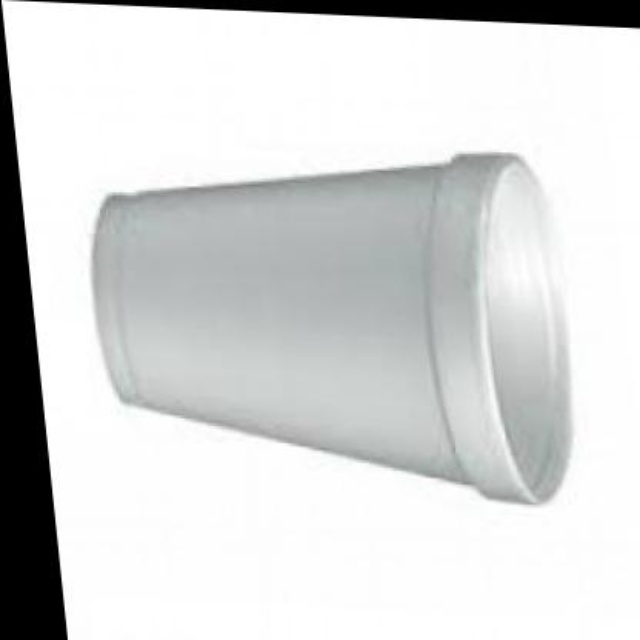trash: (94, 154, 571, 502)
